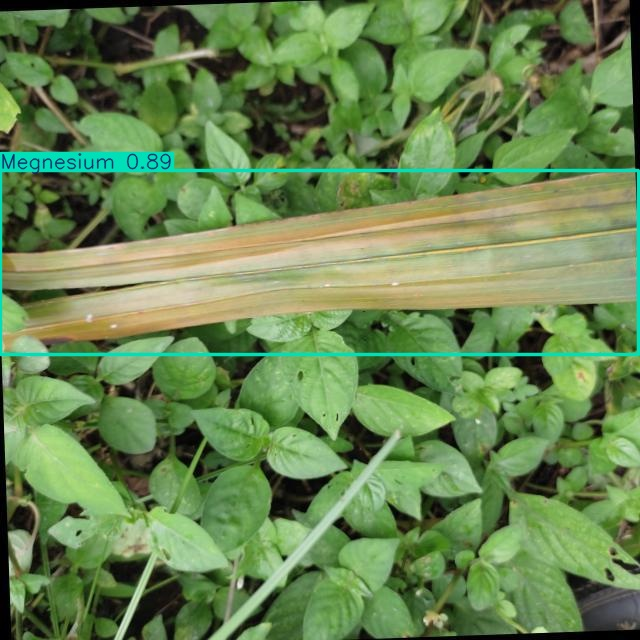Megnesium: (0, 170, 639, 355)
